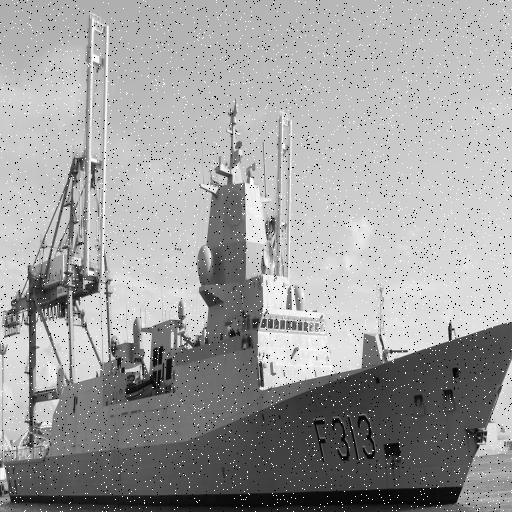Fragata: (1, 90, 368, 512)
